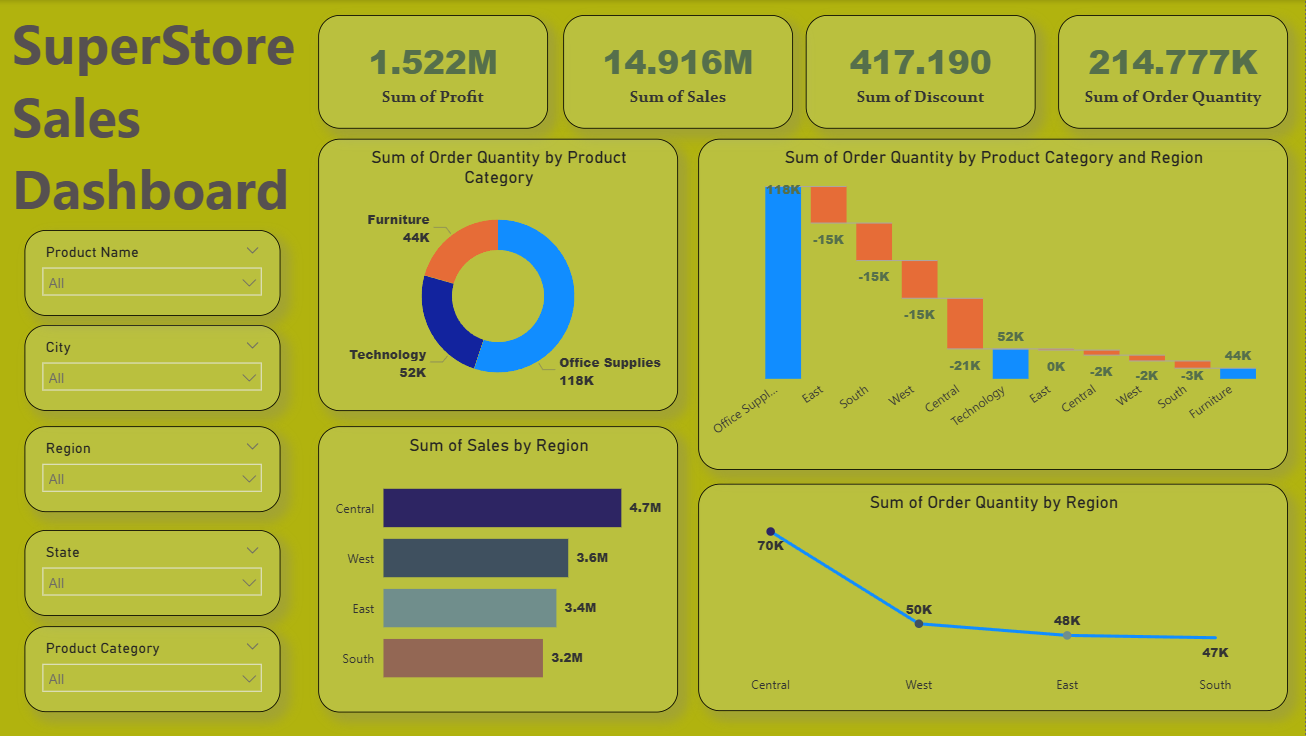

What the dashboard file says about the page in this screenshot:
{"tool":"powerbi","page":{"name":"Page 1","canvas":[1280,720],"ordinal":0},"visuals":[{"type":"textbox","box":[9.7,0,347.5,224.4],"z":0},{"type":"card","fields":{"Values":["Sum(Orders.Profit)"]},"box":[314.3,14.7,225,111.3],"z":1000},{"type":"card","fields":{"Values":["Sum(Orders.Sales)"]},"box":[553.9,14.7,225,111.3],"z":2000},{"type":"card","fields":{"Values":["Sum(Orders.Discount)"]},"box":[791.2,14.7,225,111.3],"z":3000},{"type":"card","fields":{"Values":["Sum(Orders.Order Quantity)"]},"box":[1038.2,14.7,225,111.3],"z":4000},{"type":"clusteredBarChart","fields":{"Category":["Orders.Region"],"Y":["Sum(Orders.Sales)"]},"box":[314.3,417,352.2,280],"z":5000},{"type":"lineChart","fields":{"Category":["Orders.Region"],"Y":["Sum(Orders.Order Quantity)"]},"box":[686,473.2,577.2,222.6],"z":6000},{"type":"slicer","fields":{"Values":["Orders.State"]},"box":[26.9,518.5,250,84.4],"z":7000},{"type":"slicer","fields":{"Values":["Orders.City"]},"box":[26.9,317.9,250,84.4],"z":8000},{"type":"slicer","fields":{"Values":["Orders.Region"]},"box":[26.9,417,250,84.4],"z":9000},{"type":"slicer","fields":{"Values":["Orders.Product Name"]},"box":[26.9,225,250,84.4],"z":10000},{"type":"donutChart","fields":{"Category":["Orders.Product Category"],"Y":["Sum(Orders.Order Quantity)"]},"box":[314.3,135.7,352.2,266.6],"z":11000},{"type":"slicer","fields":{"Values":["Orders.Product Category"]},"box":[26.9,612.6,250,84.4],"z":12000},{"type":"waterfallChart","fields":{"Y":["Sum(Orders.Order Quantity)"],"Category":["Orders.Product Category"],"Breakdown":["Orders.Region"]},"box":[686,135.7,577.2,324.1],"z":13000}]}

Visuals, with their boxes in screenshot pixels (x1, y1, x2, y2), scaled from the page's 1280x720 canvas onto the 1306x736 screenshot:
textbox: x1=10 y1=0 x2=364 y2=229
card - Sum(Orders.Profit): x1=321 y1=15 x2=550 y2=129
card - Sum(Orders.Sales): x1=565 y1=15 x2=795 y2=129
card - Sum(Orders.Discount): x1=807 y1=15 x2=1037 y2=129
card - Sum(Orders.Order Quantity): x1=1059 y1=15 x2=1289 y2=129
clusteredBarChart - Orders.Region x Sum(Orders.Sales): x1=321 y1=426 x2=680 y2=712
lineChart - Orders.Region x Sum(Orders.Order Quantity): x1=700 y1=484 x2=1289 y2=711
slicer - Orders.State: x1=27 y1=530 x2=283 y2=616
slicer - Orders.City: x1=27 y1=325 x2=283 y2=411
slicer - Orders.Region: x1=27 y1=426 x2=283 y2=513
slicer - Orders.Product Name: x1=27 y1=230 x2=283 y2=316
donutChart - Orders.Product Category x Sum(Orders.Order Quantity): x1=321 y1=139 x2=680 y2=411
slicer - Orders.Product Category: x1=27 y1=626 x2=283 y2=712
waterfallChart - Sum(Orders.Order Quantity) x Orders.Product Category: x1=700 y1=139 x2=1289 y2=470
